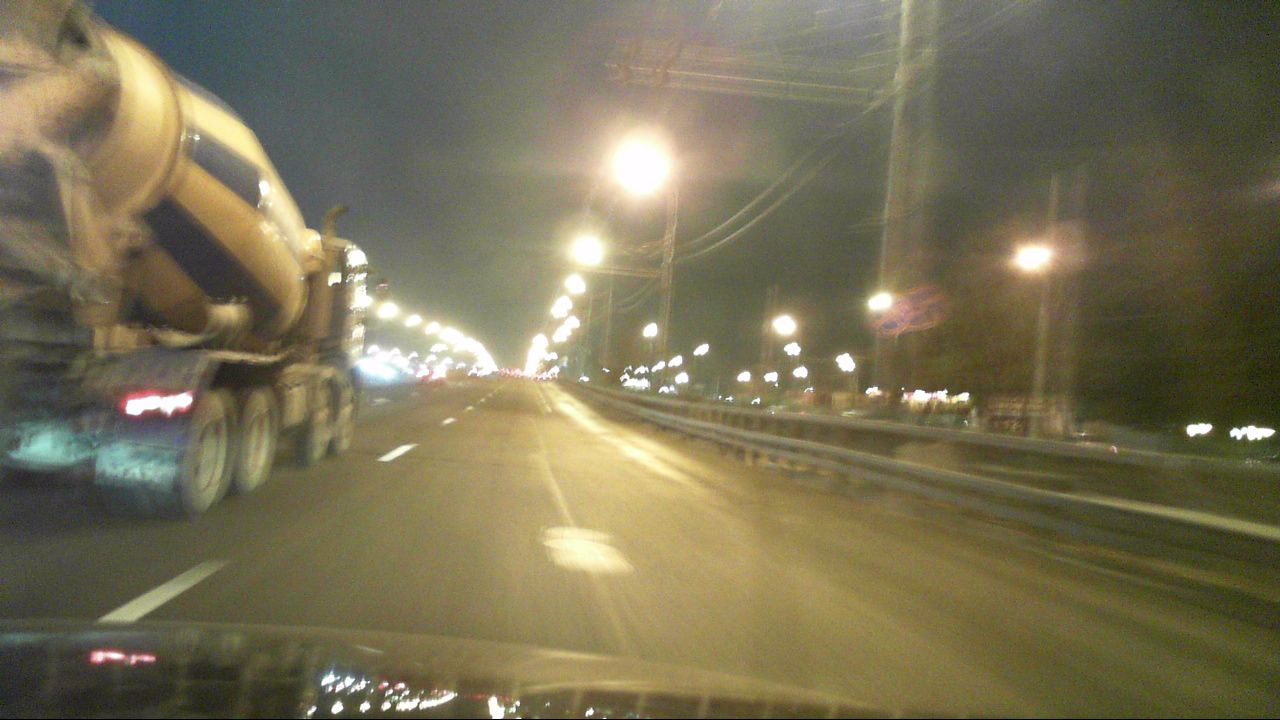No Parking: (870, 294, 911, 332)
